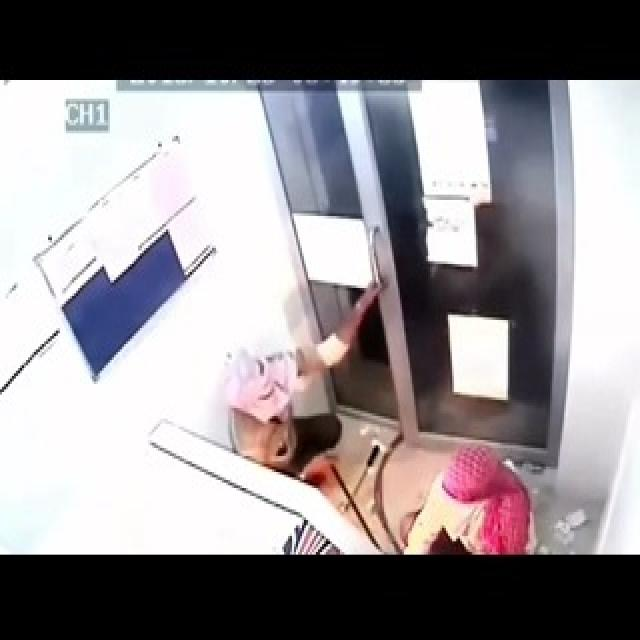thief: (217, 286, 373, 474), (404, 430, 546, 552)
